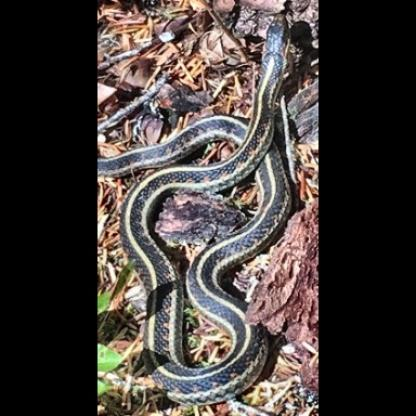Snake: (110, 10, 299, 407)
